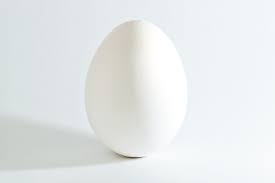eggs: (84, 11, 194, 158)
